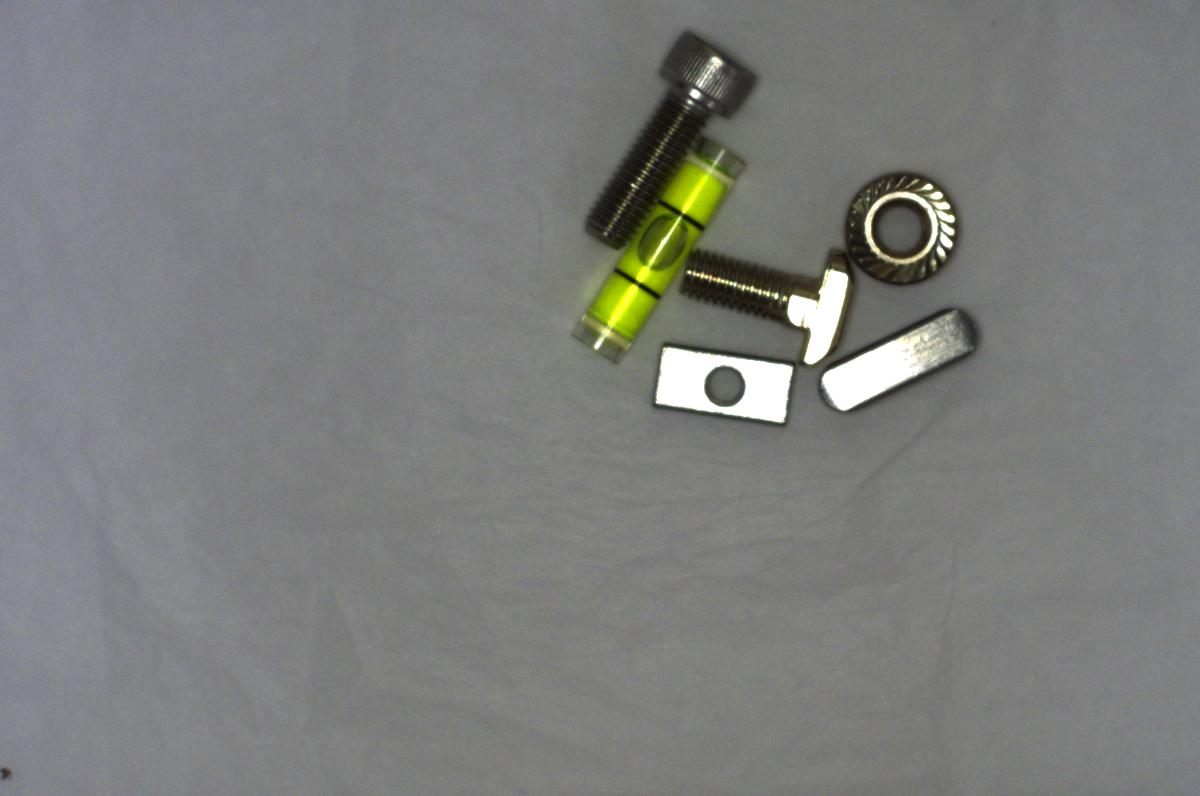Flange nut: (837, 156, 971, 291)
Hexagon screw: (574, 23, 769, 258)
Horizontal bubble: (565, 132, 742, 364)
Keybar: (817, 304, 984, 413)
Rectangular nut: (647, 337, 796, 427)
T-shaped screw: (674, 246, 855, 367)
